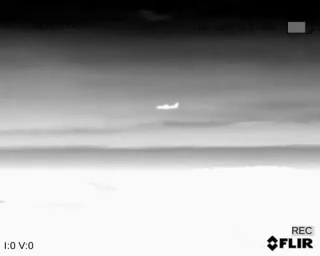AIRPLANE: (155, 100, 180, 112)
